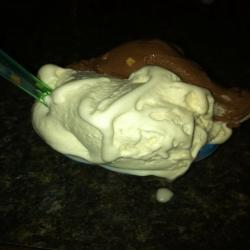icecream: (32, 67, 221, 182)
